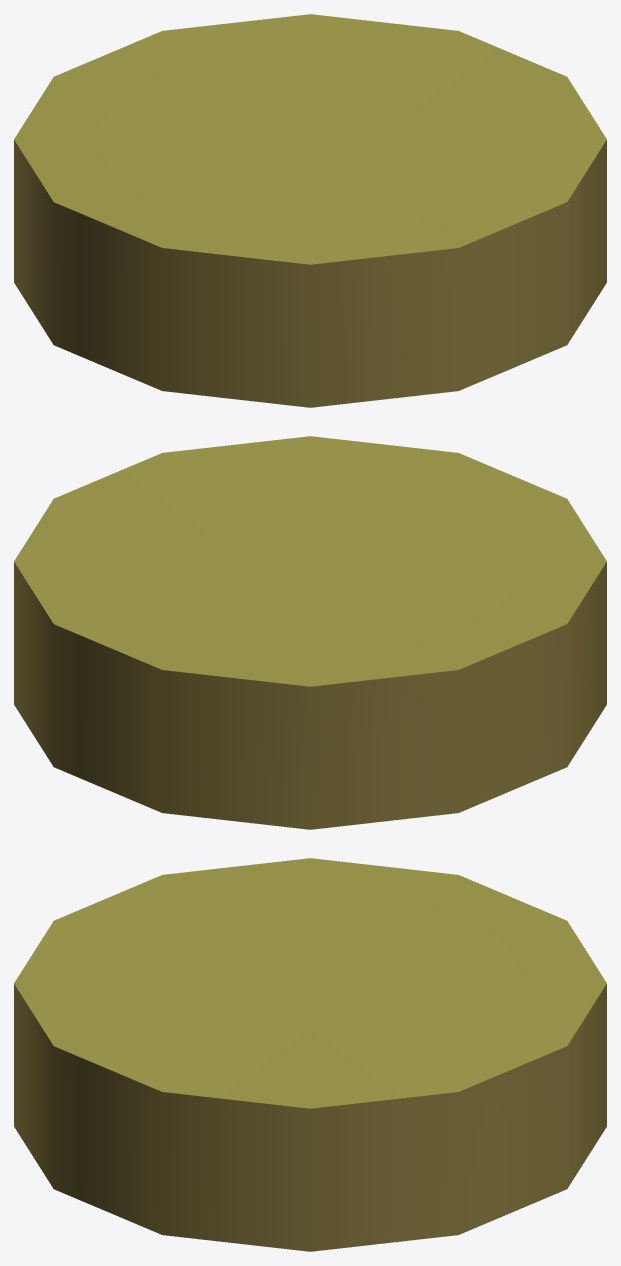
Rendered from human-toys-foam-block_v2.glb.
3 views of the same model, one above another, from view 1: azimuth 30°, elevation 25°; view 2: azimuth 150°, elevation 25°; view 3: azimuth 270°, elevation 25° (orthographic).
Parts seen in each view (by area): view 1: Foam Block_v2; view 2: Foam Block_v2; view 3: Foam Block_v2.
Boxes of the visible parts, x1,y1,x2,y2 form: Foam Block_v2: (14, 14, 606, 407); Foam Block_v2: (14, 436, 606, 829); Foam Block_v2: (14, 858, 606, 1251).
Bounding box in the file's own units: 0.3 × 0.0799 × 0.3.
